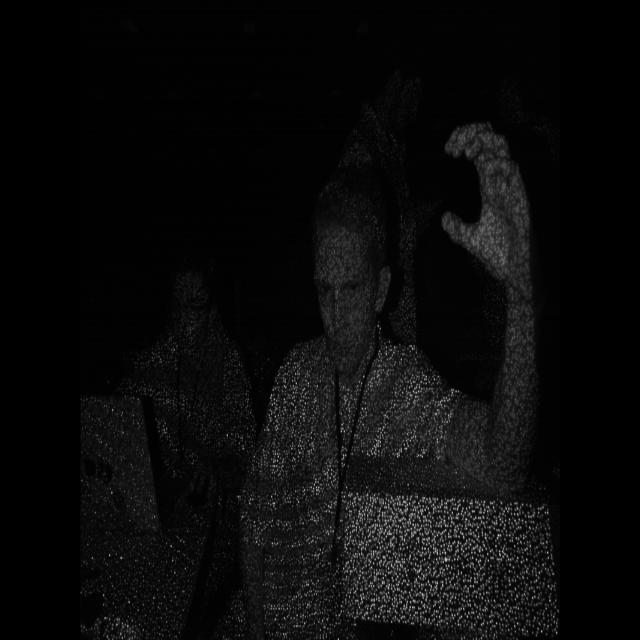C: (420, 104, 558, 306)
